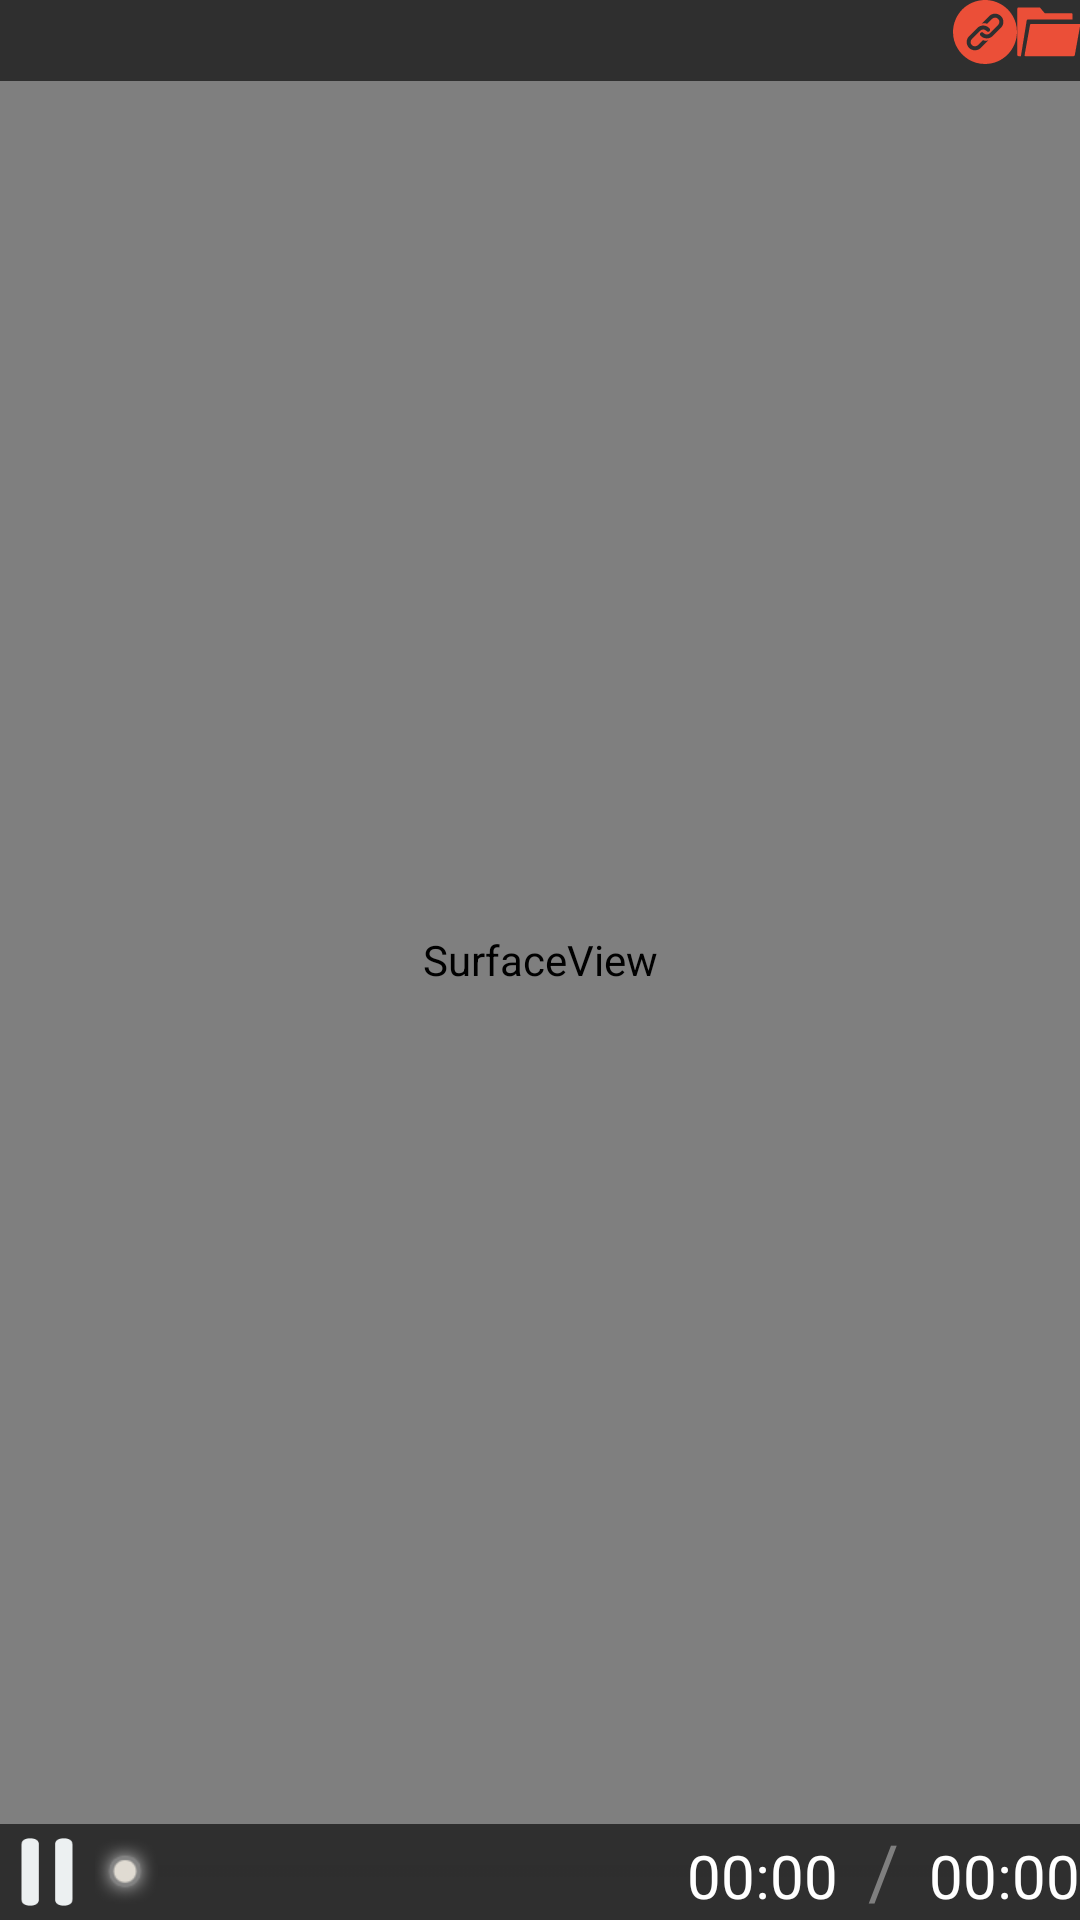

Point at icon controls on the screen. Image size 1080x1920, points as (x=x, y=y).
file: (x=1052, y=40)
pause: (x=47, y=1872)
url: (x=985, y=32)
